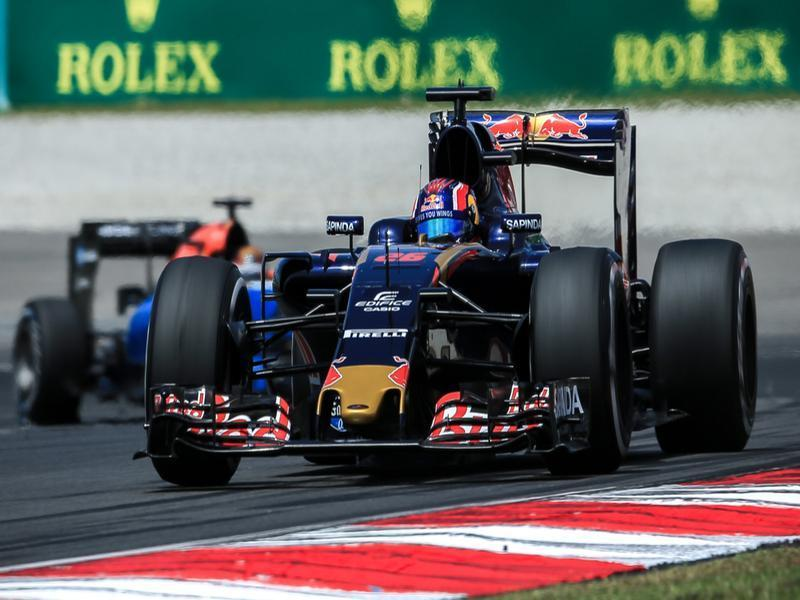f1: (161, 83, 758, 478)
